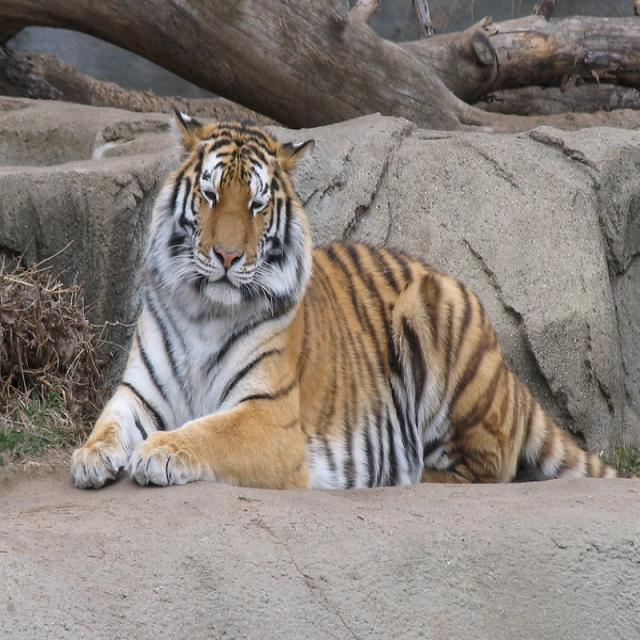Tiger: (72, 106, 626, 488)
